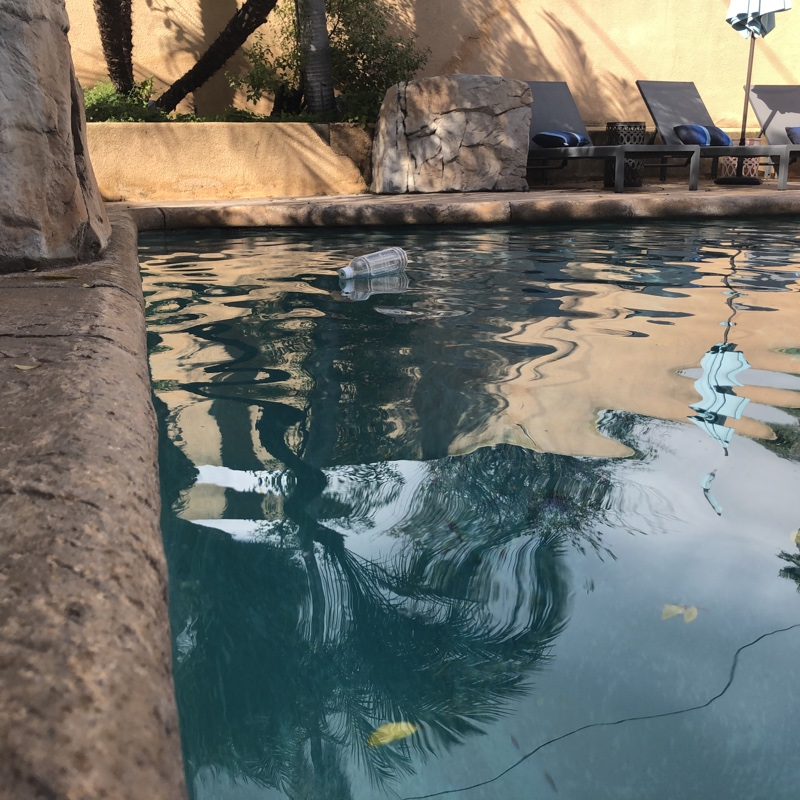Plastic Bottle: (332, 244, 413, 283)
